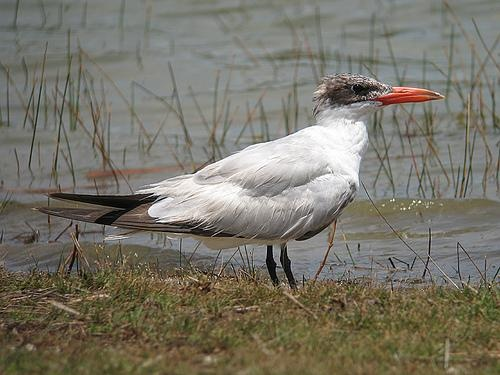bird: (46, 68, 444, 290)
